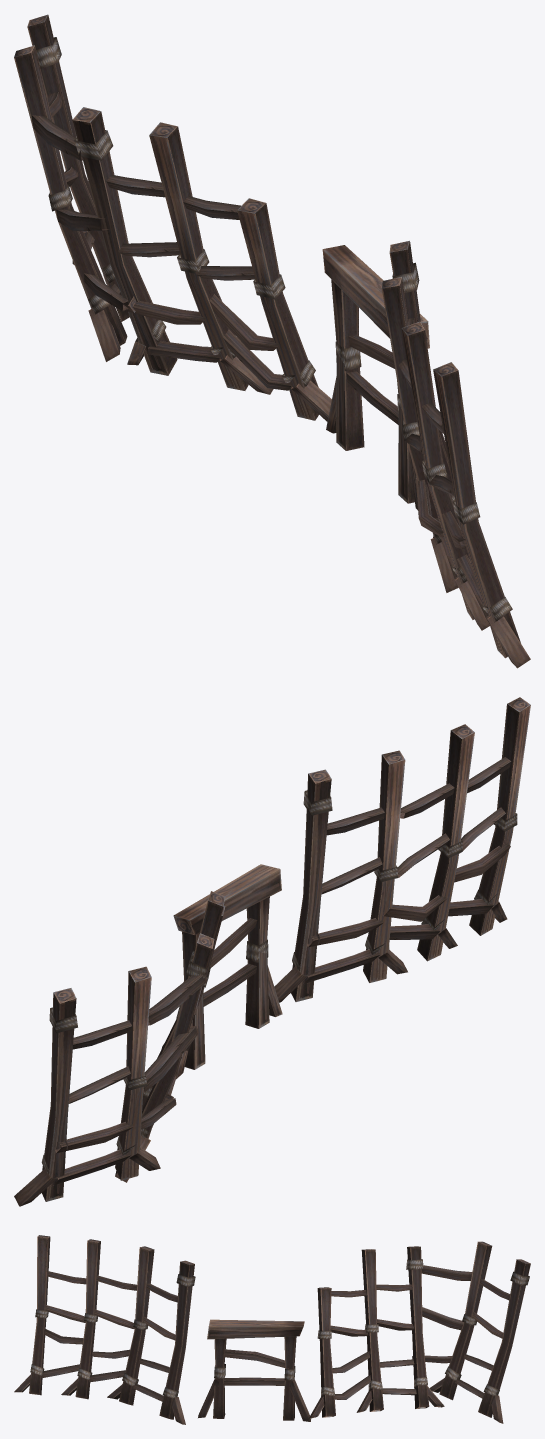
The model's file is object_mine_reinforcements02.fbx.
The picture shows the model from 3 angles, top to bottom: view 1: azimuth 30°, elevation 25°; view 2: azimuth 150°, elevation 25°; view 3: azimuth 270°, elevation 25°; orthographic projection. The views are drawn at different scales.
Visible parts, largest first — view 1: mine_supports; view 2: mine_supports; view 3: mine_supports.
Part boxes in pixels (x1=…): mine_supports: x1=14, y1=14, x2=530, y2=668; mine_supports: x1=14, y1=697, x2=530, y2=1206; mine_supports: x1=14, y1=1235, x2=530, y2=1424.
Bounding box in the file's own units: 6.56 × 10.75 × 32.77.
